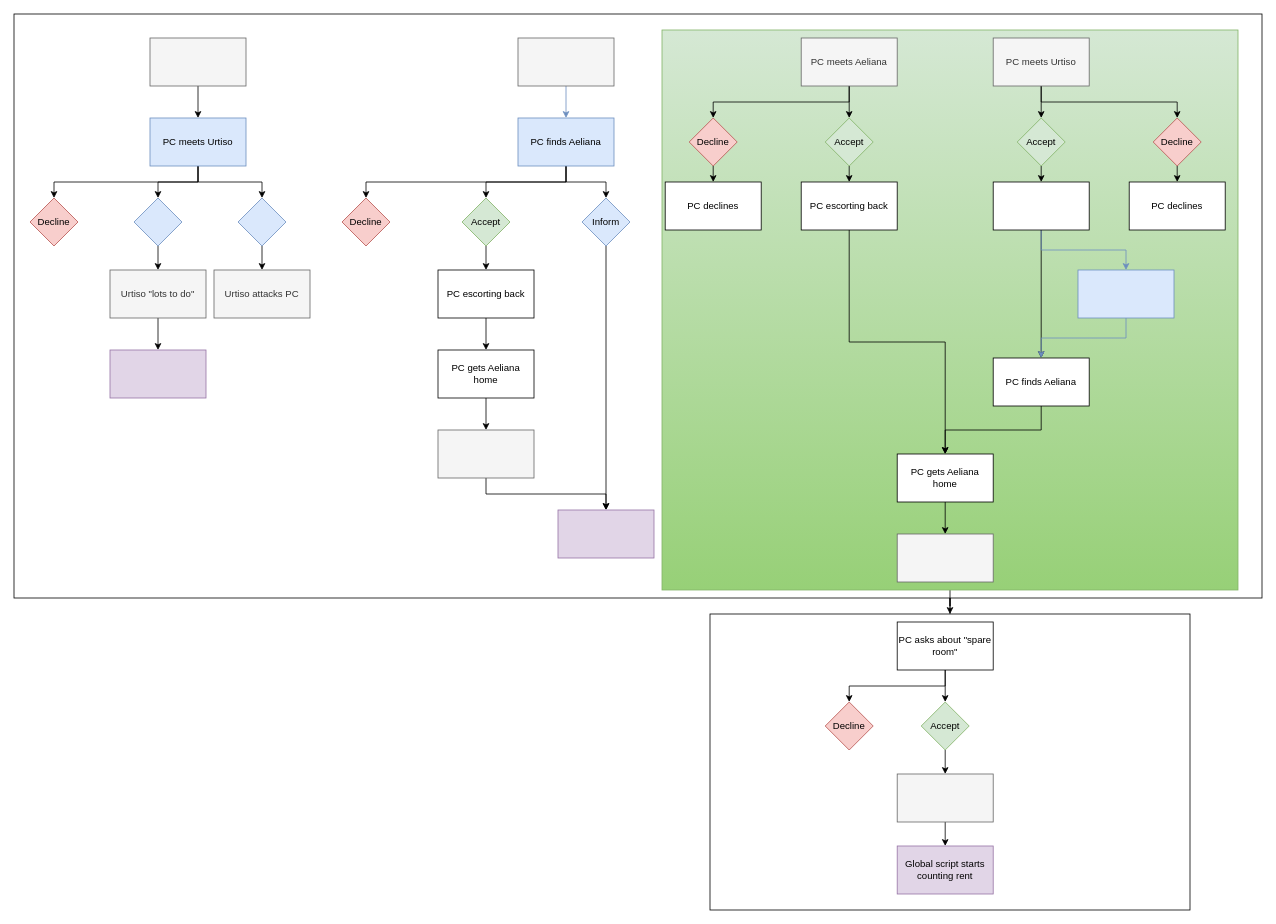
Image size: 1276x924. Some labels were removed from this diagram. The shapes that lost their labels are listed below. From the top down, each one's box as (x1, y1, x2, y2) in pixels, then its label:
(149, 37, 246, 86): PC kills Aeliana
(517, 37, 614, 86): PC kills Urtiso
(133, 197, 182, 246): "Found"
(237, 197, 286, 246): Admit
(992, 181, 1089, 230): PC searching
(1077, 269, 1174, 318): PC speaks to Nedalor, points them in correct direction
(109, 349, 206, 398): Global script arms up Urtiso
(437, 429, 534, 478): Aeliana finds her wife dead
(557, 509, 654, 558): Global script kills Aeliana & Rattus after 1 day
(896, 533, 993, 582): PC speaks to Urtiso
(896, 773, 993, 822): PC starts renting
